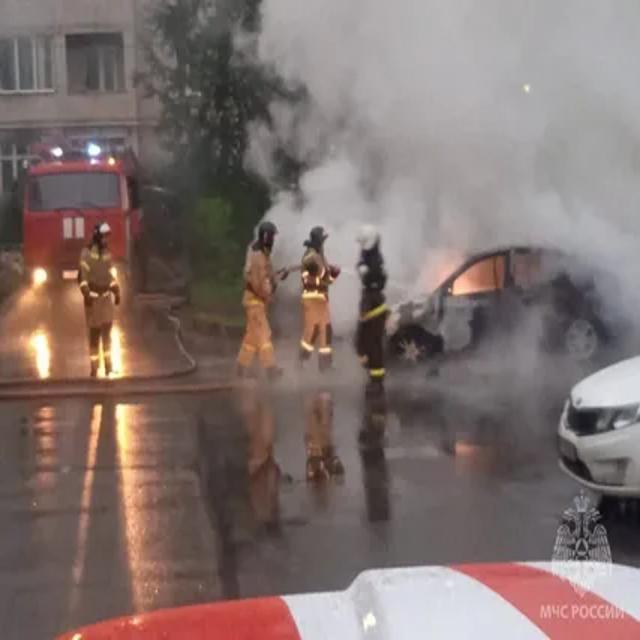Smoke: (252, 1, 640, 355)
